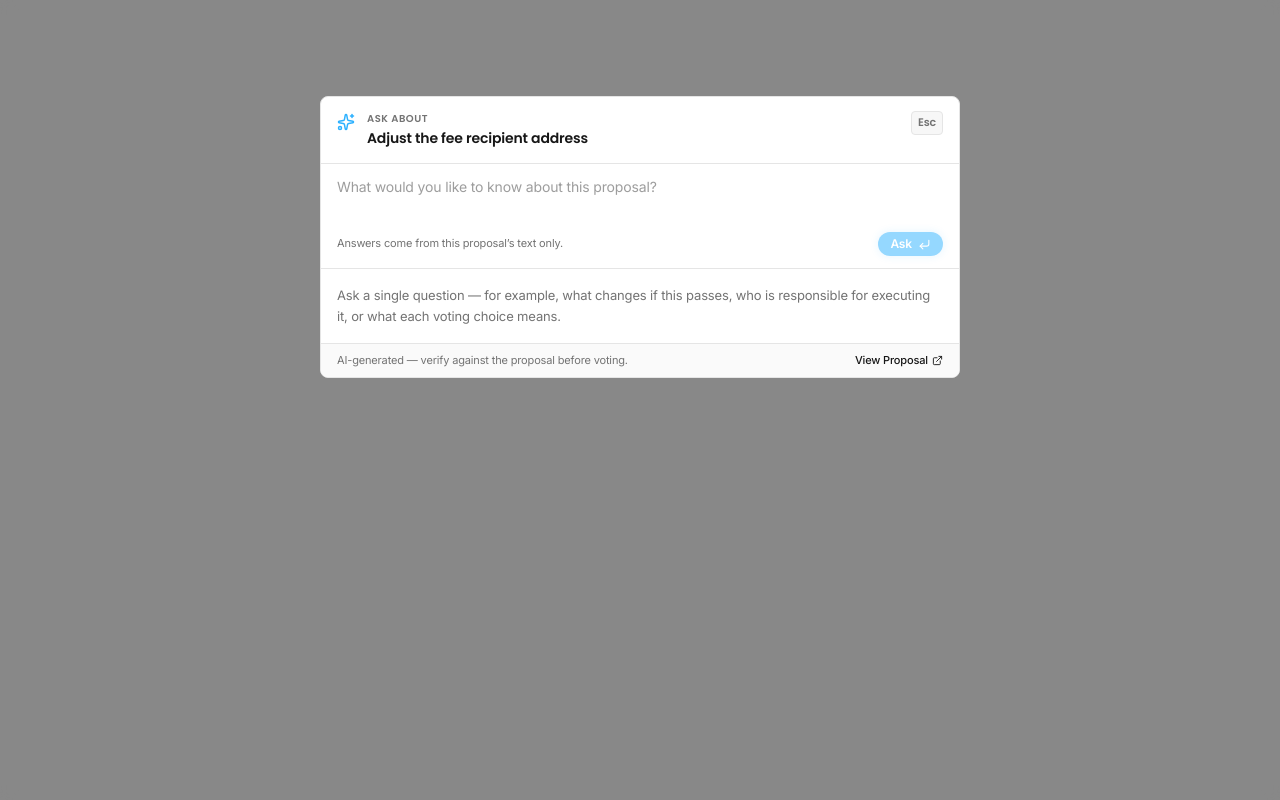
Test: AskProposalDialog › submits via the Ask button
Type "Who executes this?" into the text box named "Your question" at coordinates (640, 199), box [337,176,943,221]
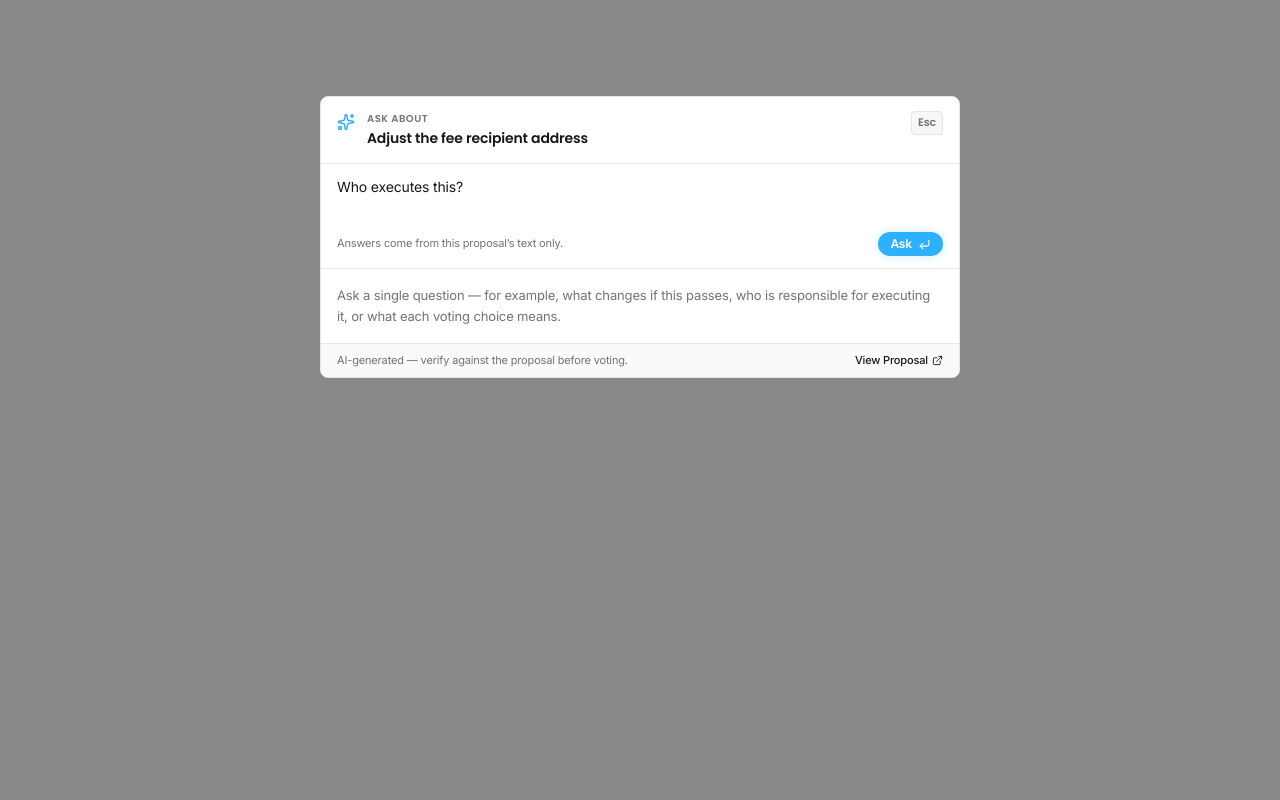
Click the button "Ask" at coordinates (911, 244), box [878,232,943,256]
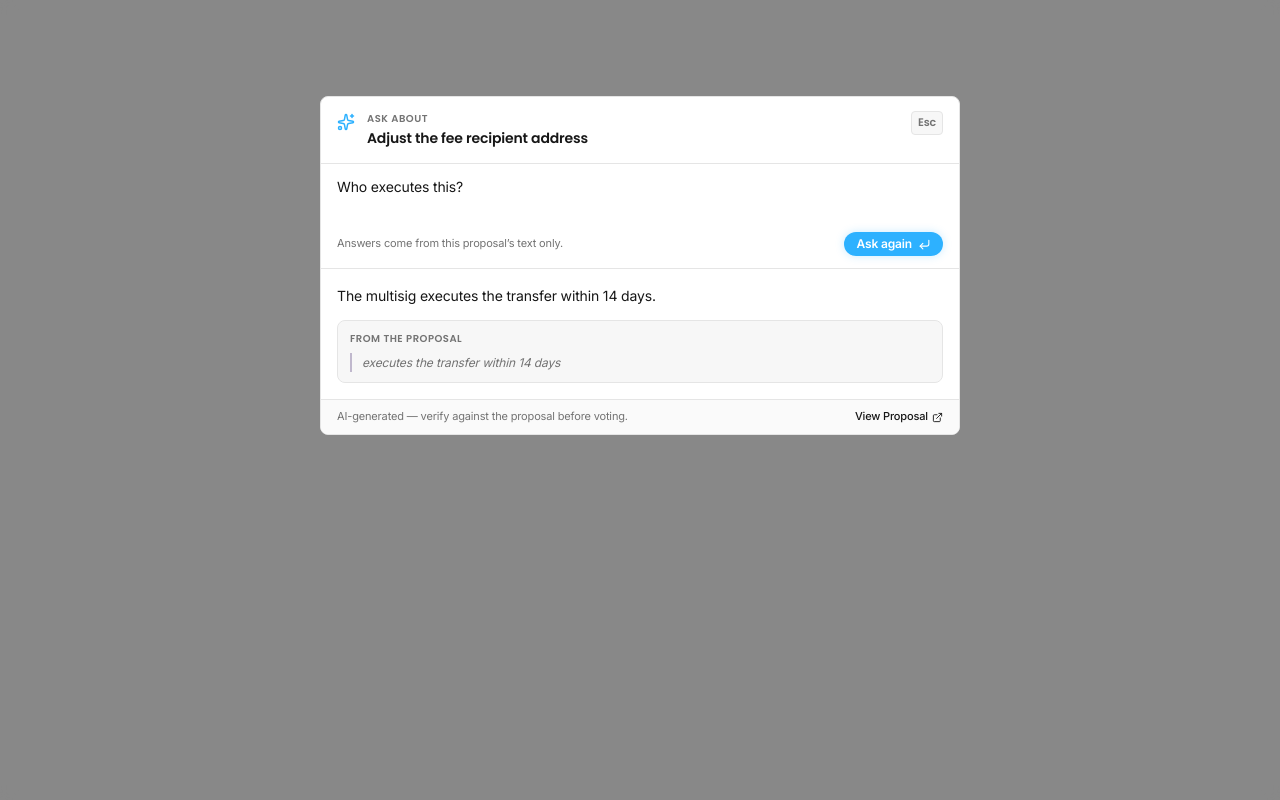
Result: the text "The multisig executes the transfer within 14 days." is shown at [337,287,656,304]
